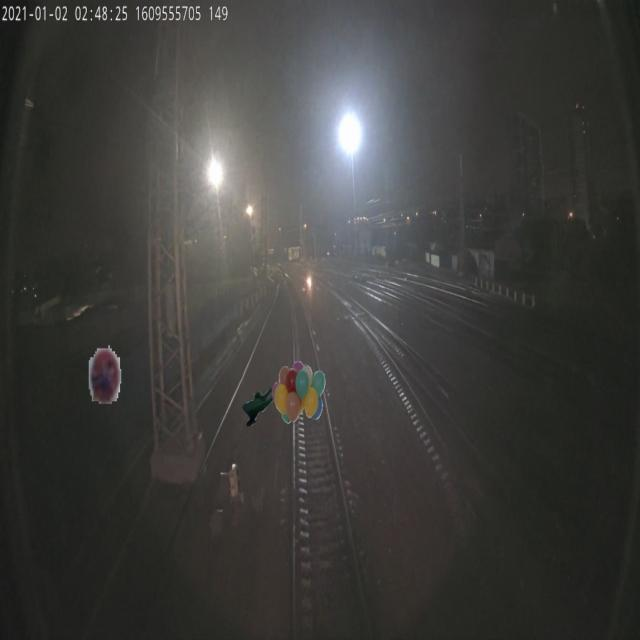balloon: (272, 359, 326, 424)
floating object: (242, 362, 310, 426), (89, 339, 121, 404)
